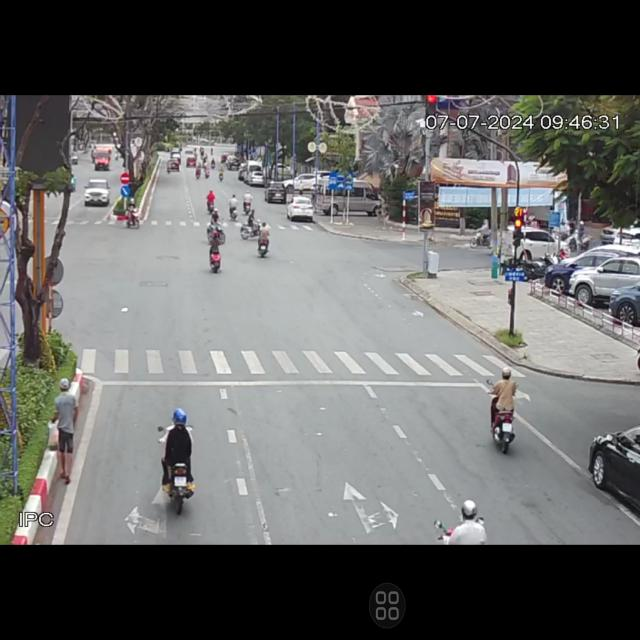Red: (512, 204, 526, 252)
